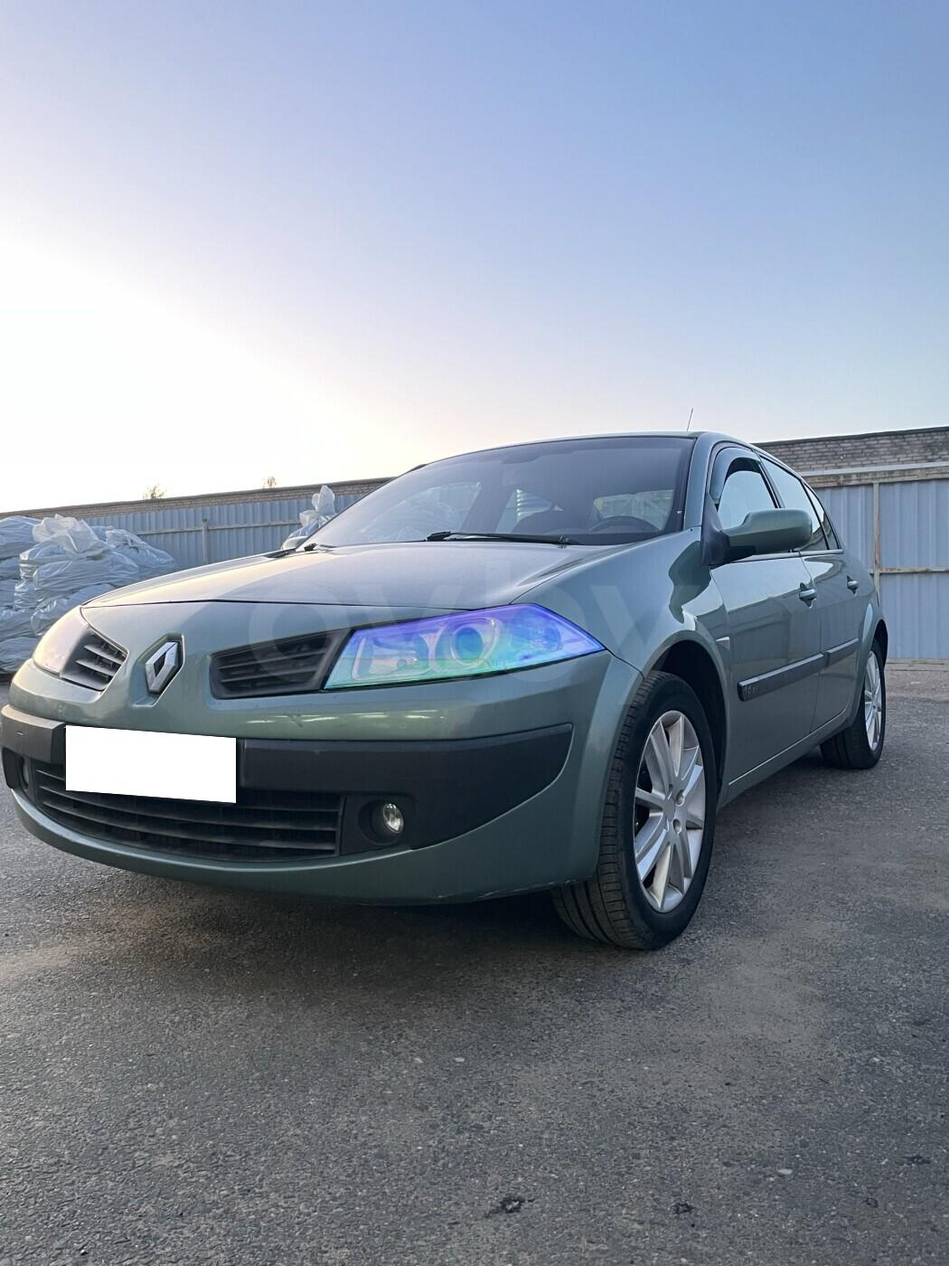Megane_2005-2009: (0, 407, 897, 971)
